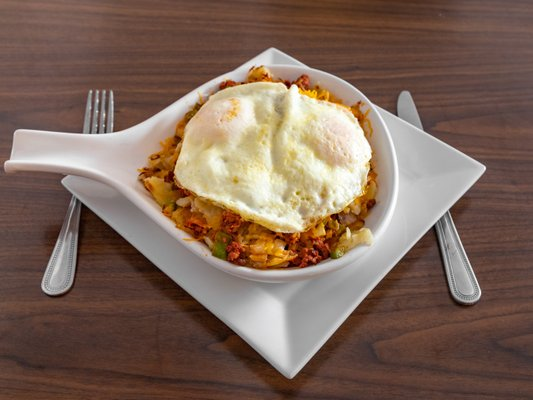salad: (41, 176, 84, 297)
soup: (136, 76, 378, 275)
